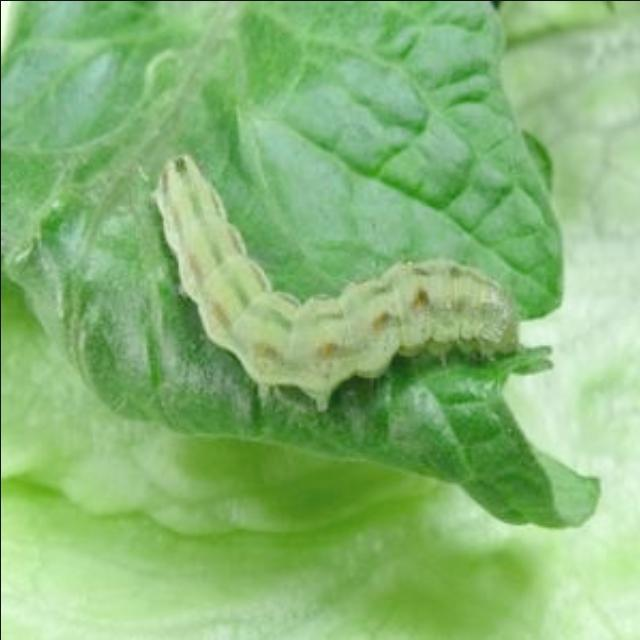Cotton bollworm: (126, 120, 542, 458)
